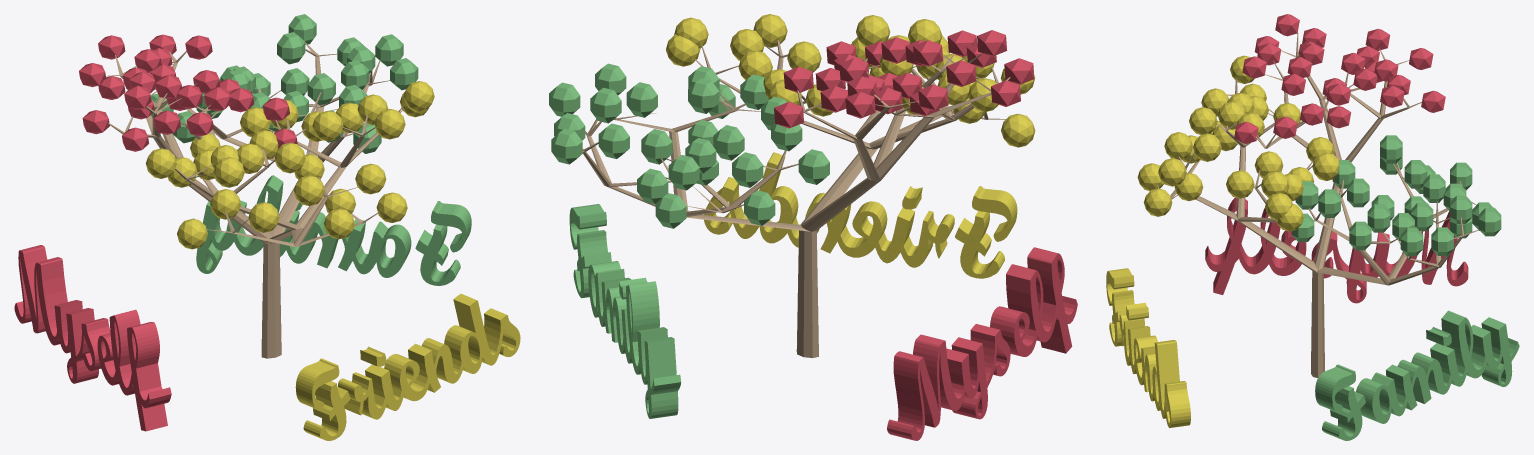
The model's file is eringratitudetree.glb.
The picture shows the model from 3 angles, left to right: view 1: azimuth 30°, elevation 25°; view 2: azimuth 150°, elevation 25°; view 3: azimuth 270°, elevation 25°; orthographic projection. The views are drawn at different scales.
Parts seen in each view (by area): view 1: Mesh_Mesh_head_geo.001_lambert2SG.001; view 2: Mesh_Mesh_head_geo.001_lambert2SG.001; view 3: Mesh_Mesh_head_geo.001_lambert2SG.001.
Boxes of the visible parts, x1=… form: Mesh_Mesh_head_geo.001_lambert2SG.001: x1=14, y1=14, x2=520, y2=440; Mesh_Mesh_head_geo.001_lambert2SG.001: x1=549, y1=14, x2=1077, y2=440; Mesh_Mesh_head_geo.001_lambert2SG.001: x1=1106, y1=14, x2=1519, y2=440.
Bounding box in the file's own units: 205 × 157 × 201.
